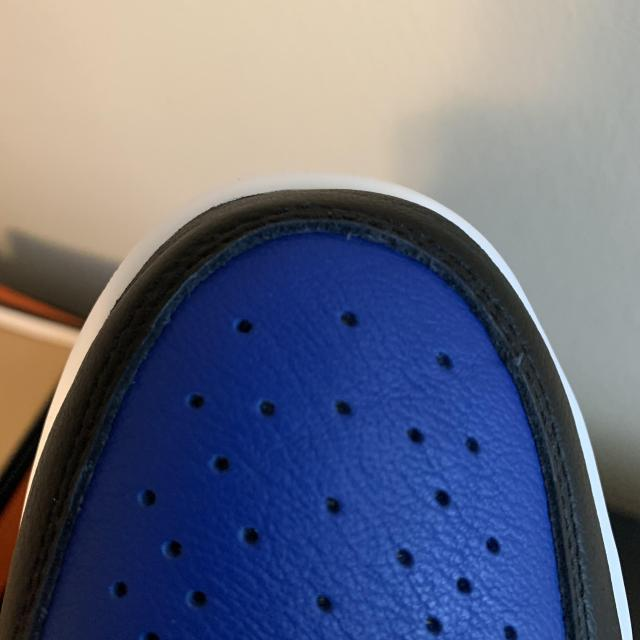shoe: (1, 167, 640, 640)
